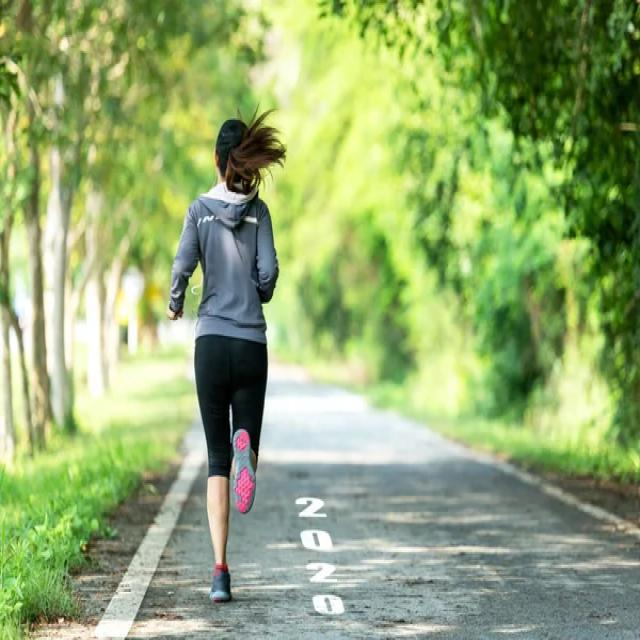Person: (167, 117, 280, 598)
